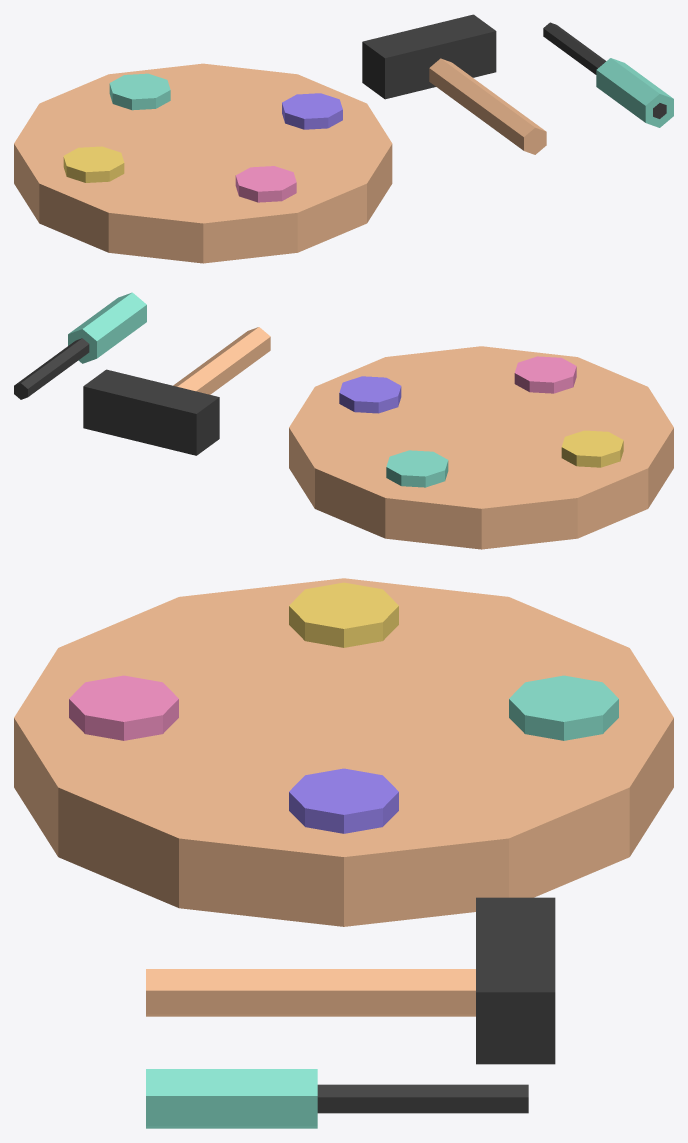
The picture shows the model from 3 angles, top to bottom: view 1: azimuth 30°, elevation 25°; view 2: azimuth 150°, elevation 25°; view 3: azimuth 270°, elevation 25°; orthographic projection. The views are drawn at different scales.
Parts seen in each view (by area): view 1: Palette board, Hammer head, Hammer handle, Driver grip, Paint patch.001, Paint patch.003, Paint patch.002, Paint patch, Screwdriver; view 2: Palette board, Hammer head, Driver grip, Hammer handle, Paint patch.003, Paint patch, Paint patch.002, Paint patch.001, Screwdriver; view 3: Palette board, Hammer handle, Hammer head, Driver grip, Screwdriver, Paint patch, Paint patch.001, Paint patch.002, Paint patch.003.
Boxes of the visible parts, x1,y1,x2,y2 form: Palette board: [14, 63, 392, 263]; Hammer head: [362, 14, 496, 99]; Hammer handle: [429, 58, 546, 154]; Driver grip: [596, 58, 673, 127]; Paint patch.001: [109, 73, 170, 110]; Paint patch.003: [235, 166, 296, 202]; Paint patch.002: [63, 146, 124, 182]; Paint patch: [282, 93, 342, 129]; Screwdriver: [543, 22, 666, 118]; Palette board: [289, 346, 673, 549]; Hammer head: [83, 369, 219, 455]; Driver grip: [68, 292, 146, 363]; Hammer handle: [173, 327, 270, 394]; Paint patch.003: [514, 356, 576, 393]; Paint patch: [339, 376, 401, 413]; Paint patch.002: [561, 430, 623, 467]; Paint patch.001: [386, 450, 448, 487]; Screwdriver: [14, 338, 89, 399]; Palette board: [14, 578, 673, 926]; Hammer handle: [146, 969, 475, 1016]; Hammer head: [476, 897, 555, 1064]; Driver grip: [146, 1069, 317, 1128]; Screwdriver: [317, 1084, 528, 1113]; Paint patch: [289, 768, 398, 833]; Paint patch.001: [509, 675, 618, 740]; Paint patch.002: [289, 582, 398, 647]; Paint patch.003: [69, 675, 178, 740].
Bounding box in the file's own units: 0.529 × 0.045 × 0.3.
Materials: 1 (1 with a texture image).
